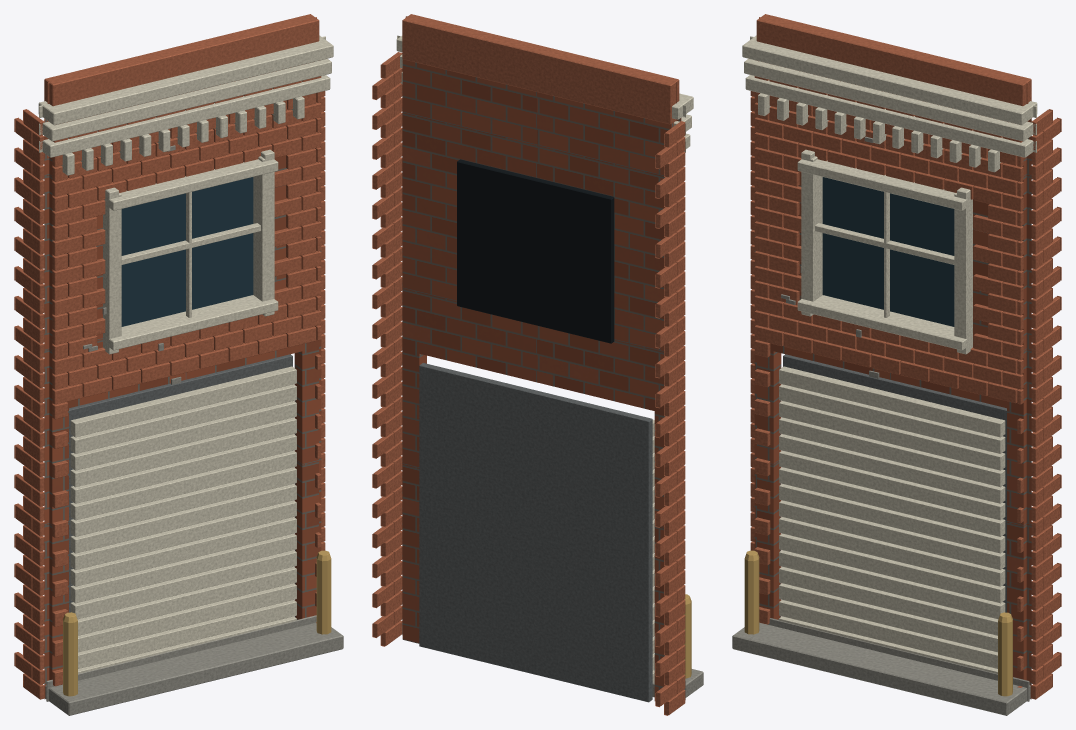
File: WHSE15_lod0.glb
3 renders of one model, left to right at view 1: azimuth 30°, elevation 25°; view 2: azimuth 150°, elevation 25°; view 3: azimuth 330°, elevation 25°, orthographic.
Visible parts, largest first — view 1: WHSE15_FRONT_LOD0; view 2: WHSE15_FRONT_LOD0; view 3: WHSE15_FRONT_LOD0.
Part boxes in pixels (x1,y1,x2,y2): WHSE15_FRONT_LOD0: [14, 14, 343, 715]; WHSE15_FRONT_LOD0: [372, 14, 703, 715]; WHSE15_FRONT_LOD0: [732, 14, 1061, 715].
Size of the model in its own units: 3.44 by 7.05 by 1.02.
10 materials, 7 textured.
